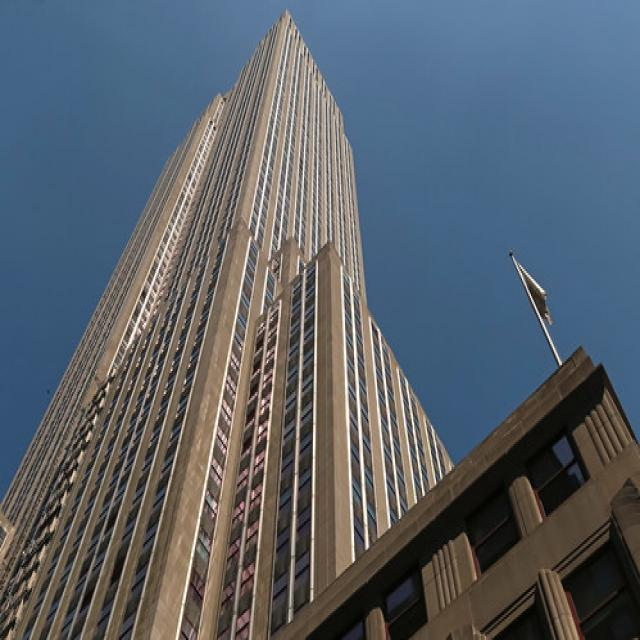Normal_building: (1, 6, 377, 640)
